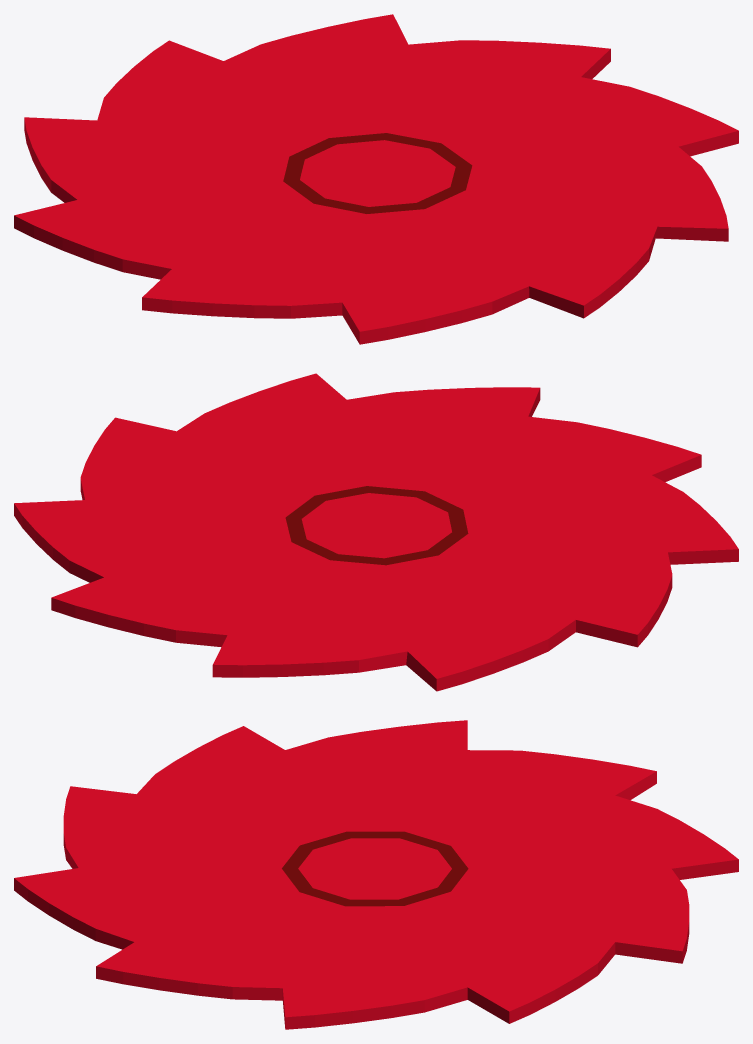
The model's file is Saw.fbx.
The picture shows the model from 3 angles, top to bottom: view 1: azimuth 30°, elevation 25°; view 2: azimuth 150°, elevation 25°; view 3: azimuth 270°, elevation 25°; orthographic projection. The views are drawn at different scales.
Visible parts, largest first — view 1: Circle; view 2: Circle; view 3: Circle.
Part boxes in pixels (<box>): Circle: <box>14,14,738,344</box>; Circle: <box>14,373,738,691</box>; Circle: <box>14,720,738,1029</box>.
Bounding box in the file's own units: 238 × 4.65 × 246.
